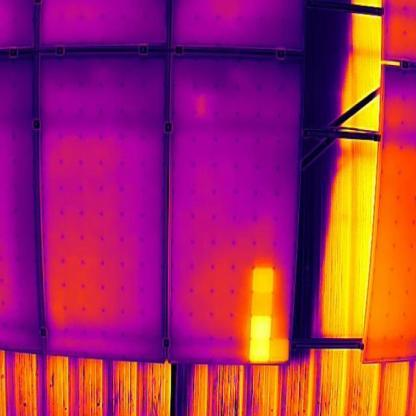anomaly: (245, 265, 294, 365)
